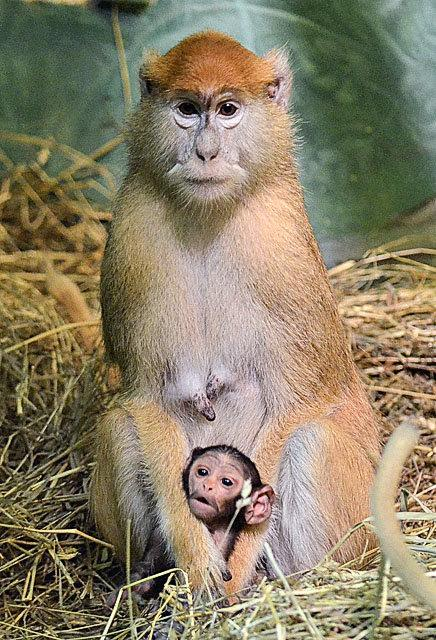monkey: (86, 31, 383, 608)
